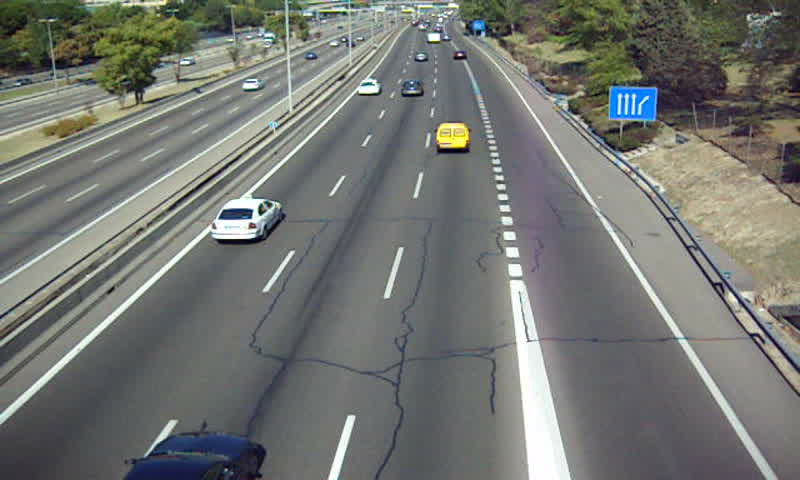car: (210, 198, 282, 242), (400, 80, 424, 98), (356, 79, 380, 95), (453, 48, 467, 61), (415, 51, 429, 64)
van: (435, 123, 469, 152)
